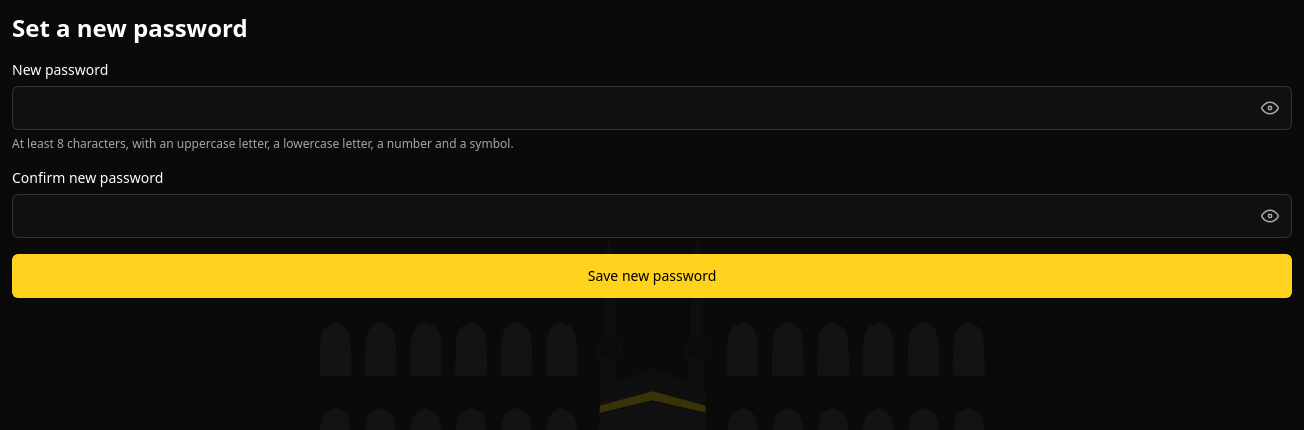
Scenario: /reset-password sets the new password for the recovered session › enforces the sign-up password rule and matching passwords
Type "weak" into the password field with test id "reset-password".
click(652, 108); type("weak")  # box [12, 86, 1292, 130]
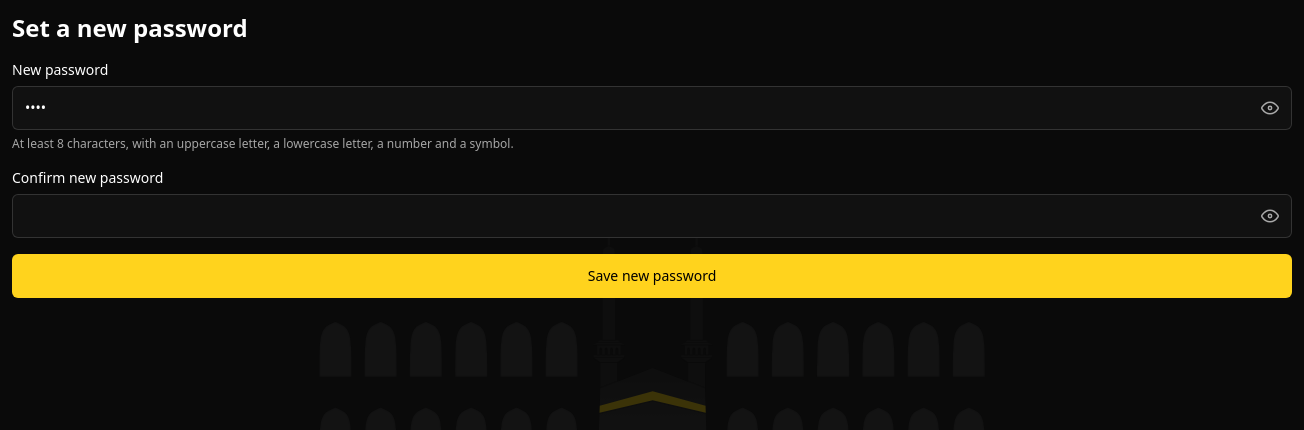
Type "weak" into the password field with test id "reset-confirm".
click(652, 216); type("weak")  # box [12, 194, 1292, 238]
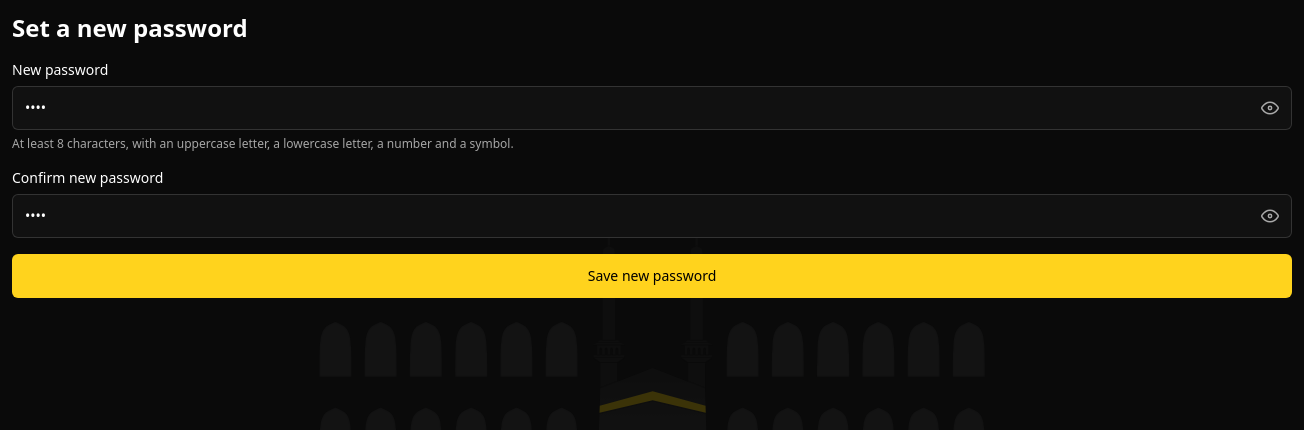
Click the button with test id "reset-submit".
click(652, 276)  # box [12, 254, 1292, 298]
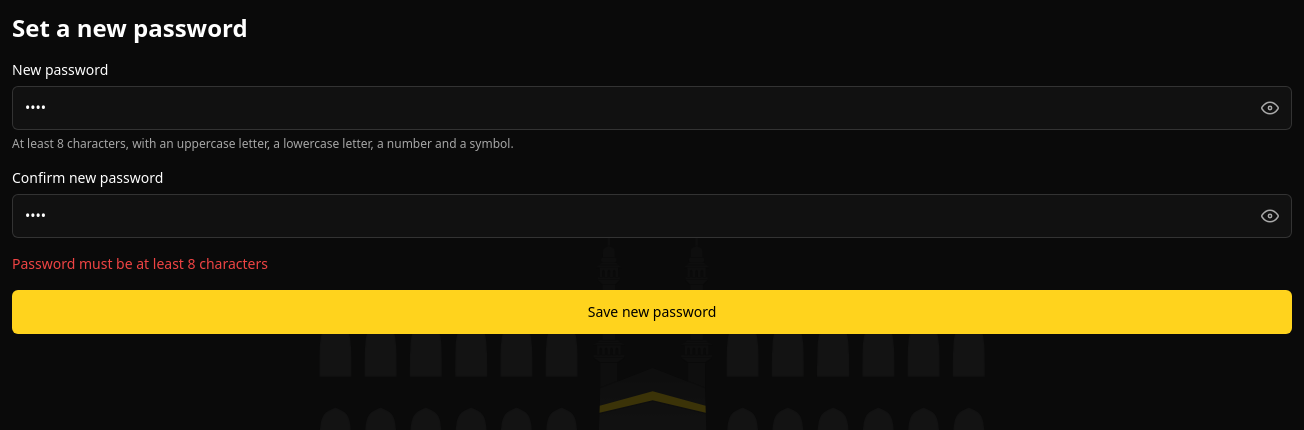
Expected: the message with test id "reset-error" shows "at least 8 characters", [12, 254, 268, 273]
Type "NewPass1!" into the password field with test id "reset-password".
click(652, 108); type("NewPass1!")  # box [12, 86, 1292, 130]
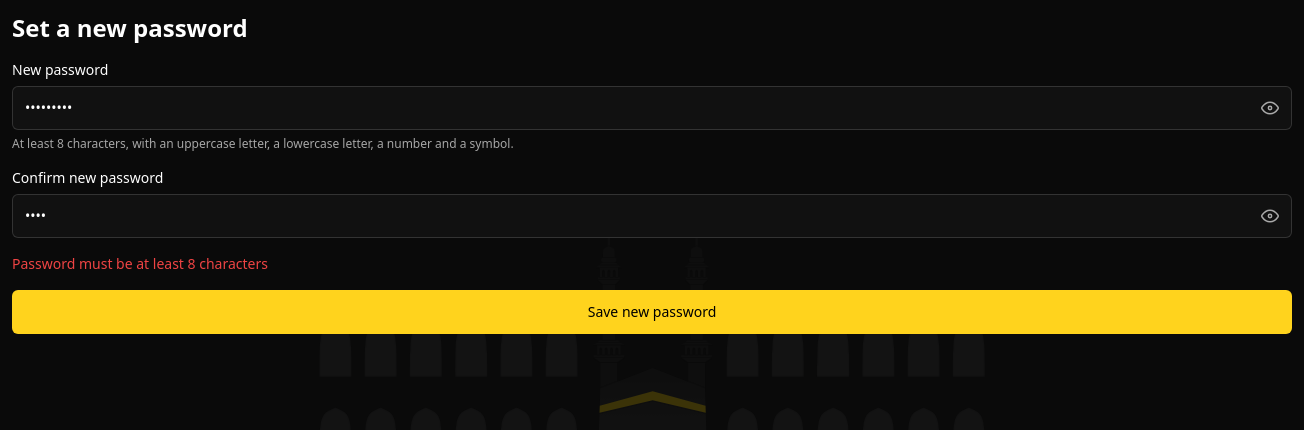
Type "NewPass2!" into the password field with test id "reset-confirm".
click(652, 216); type("NewPass2!")  # box [12, 194, 1292, 238]
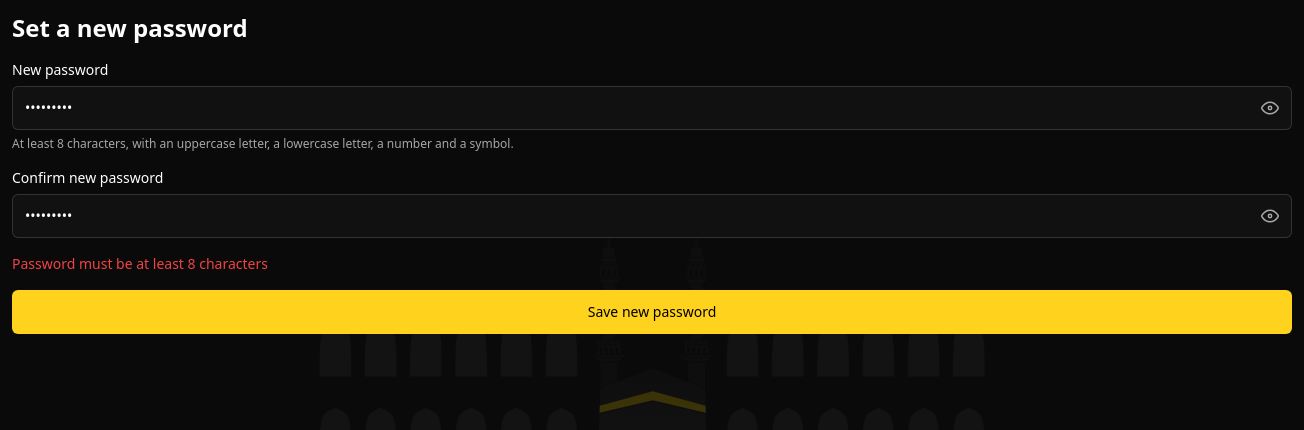
Click the button with test id "reset-submit".
click(652, 312)  # box [12, 290, 1292, 334]
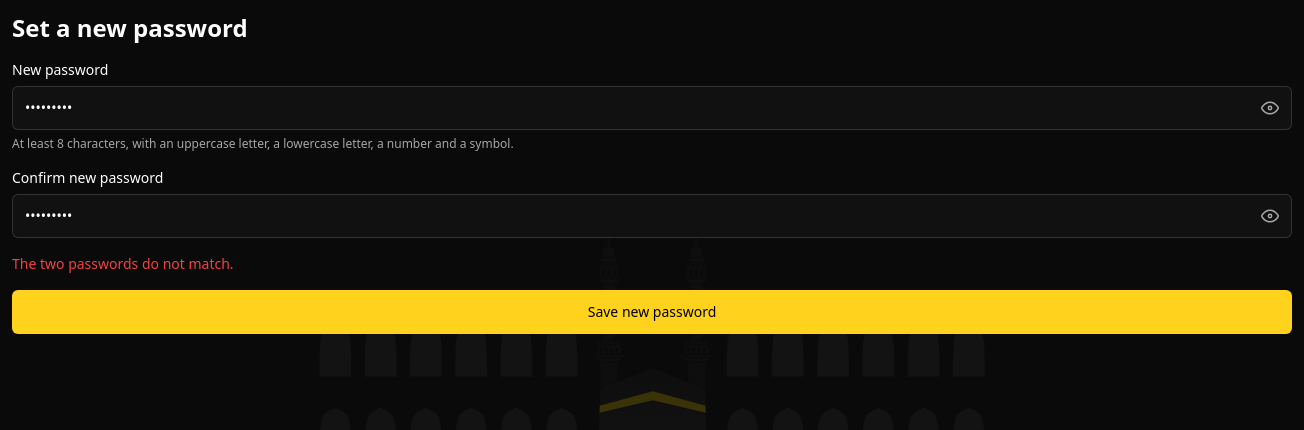
Expected: the message with test id "reset-error" shows "do not match", [12, 254, 234, 273]
